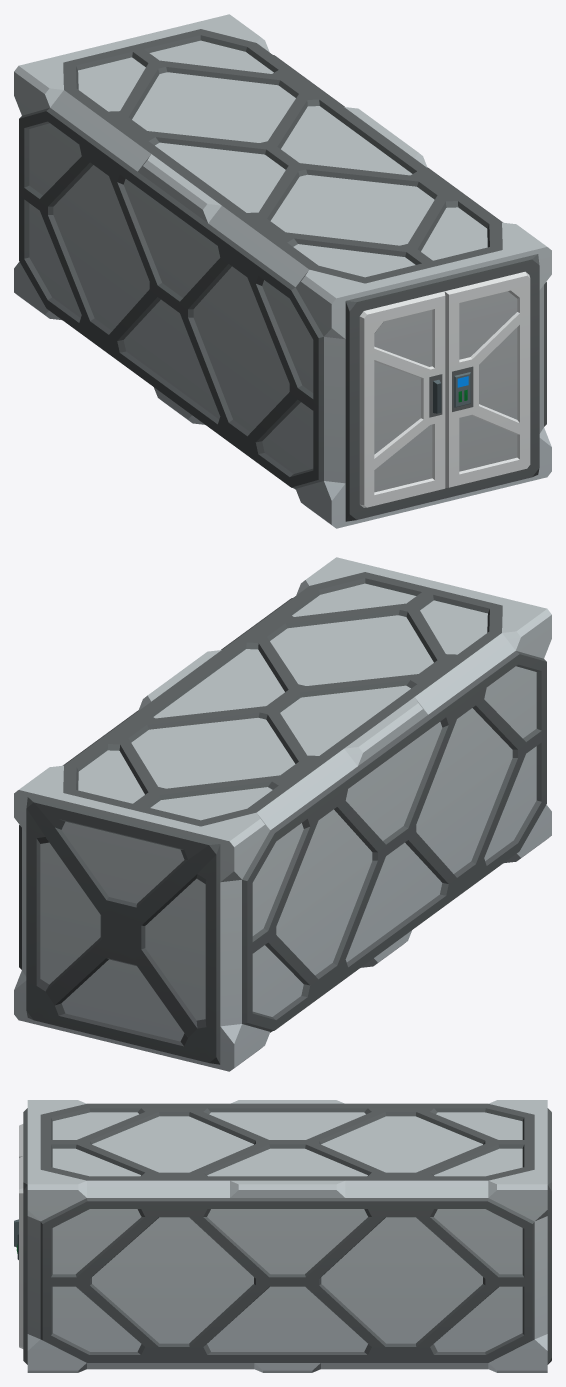
The model's file is Container_type_A_003.glb.
3 views of the same model, one above another, from view 1: azimuth 30°, elevation 25°; view 2: azimuth 150°, elevation 25°; view 3: azimuth 270°, elevation 25° (orthographic). The views are drawn at different scales.
Visible parts, largest first — view 1: Container_type_A_003, Container_type_A_door_001, Container_type_A_door_011; view 2: Container_type_A_003; view 3: Container_type_A_003, Container_type_A_door_011.
Boxes of the visible parts, <box> form: Container_type_A_003: <box>14,14,551,528</box>; Container_type_A_door_001: <box>359,291,445,507</box>; Container_type_A_door_011: <box>444,271,530,487</box>; Container_type_A_003: <box>14,557,551,1071</box>; Container_type_A_003: <box>23,1100,551,1372</box>; Container_type_A_door_011: <box>16,1156,23,1348</box>.
Size of the model in its own units: 2.49 by 2.4 by 6.21.
Materials: 2 (2 with a texture image).
